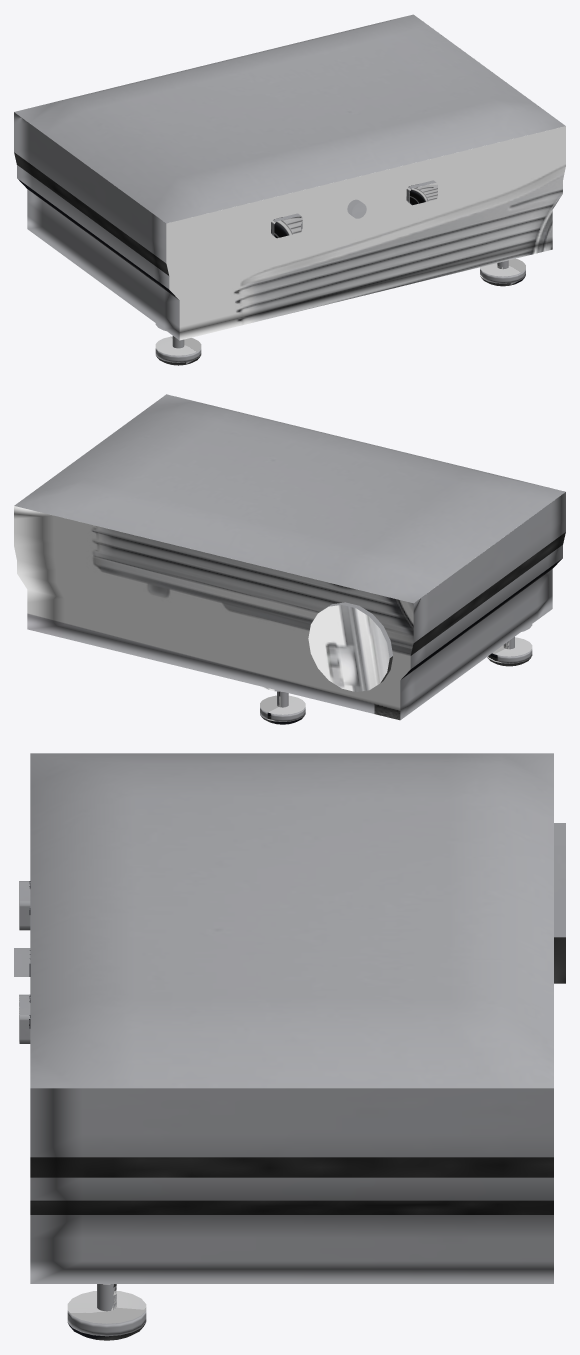
Rendered from proyector.fbx.
3 renders of one model, top to bottom at view 1: azimuth 30°, elevation 25°; view 2: azimuth 150°, elevation 25°; view 3: azimuth 270°, elevation 25°, orthographic. The views are drawn at different scales.
Visible parts, largest first — view 1: OptomaProjector; view 2: OptomaProjector; view 3: OptomaProjector.
Boxes of the visible parts, x1,y1,x2,y2 form: OptomaProjector: (14,14,565,365); OptomaProjector: (14,394,565,724); OptomaProjector: (14,753,565,1340).
Bounding box in the file's own units: 2083 × 1234 × 2991.
